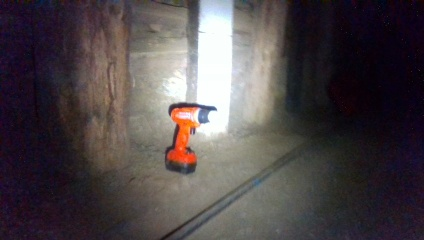drill: (166, 104, 219, 175)
